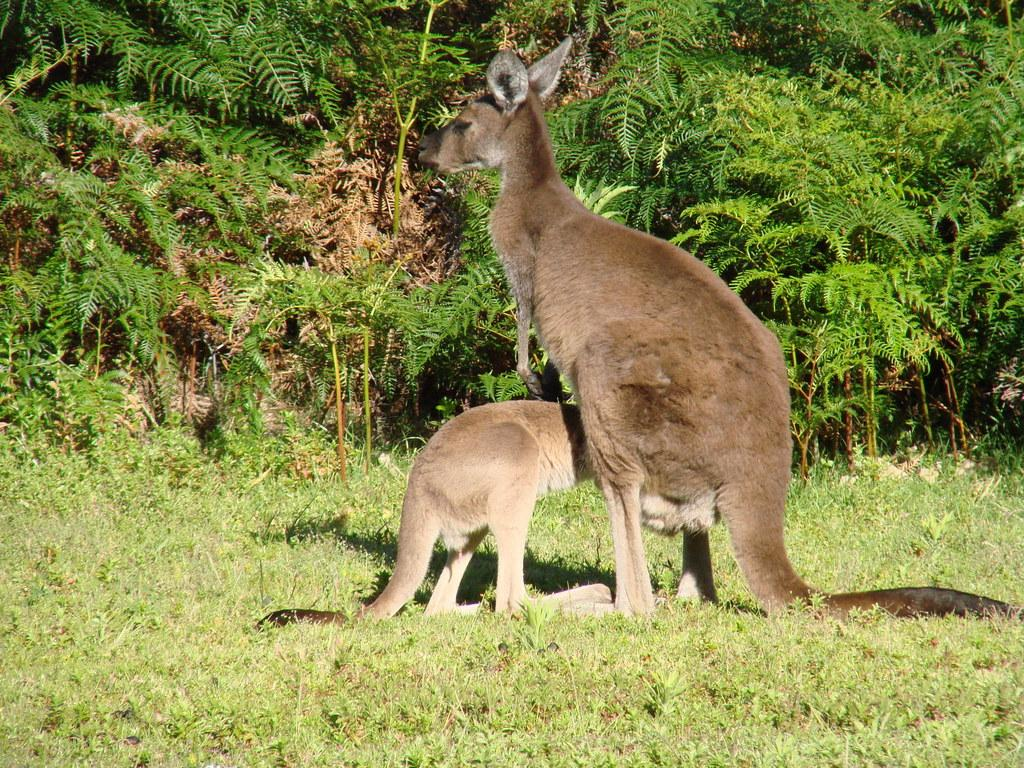kangaroo: (416, 35, 1024, 618), (250, 400, 604, 627)
